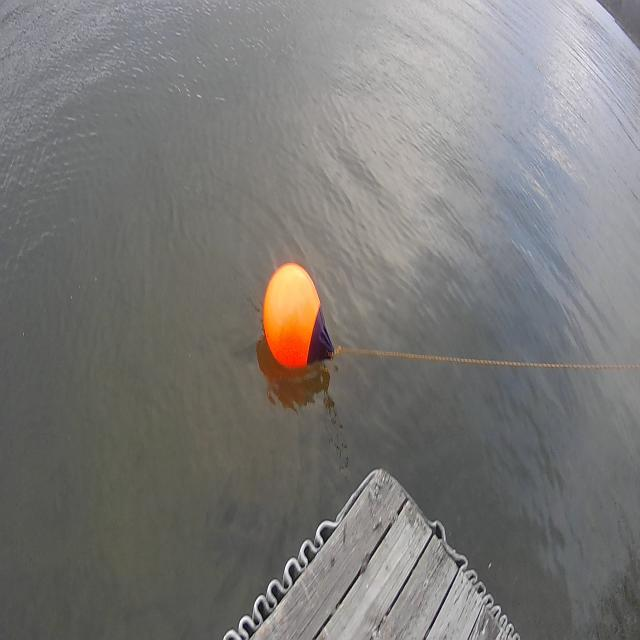Buoy: (257, 254, 338, 381)
